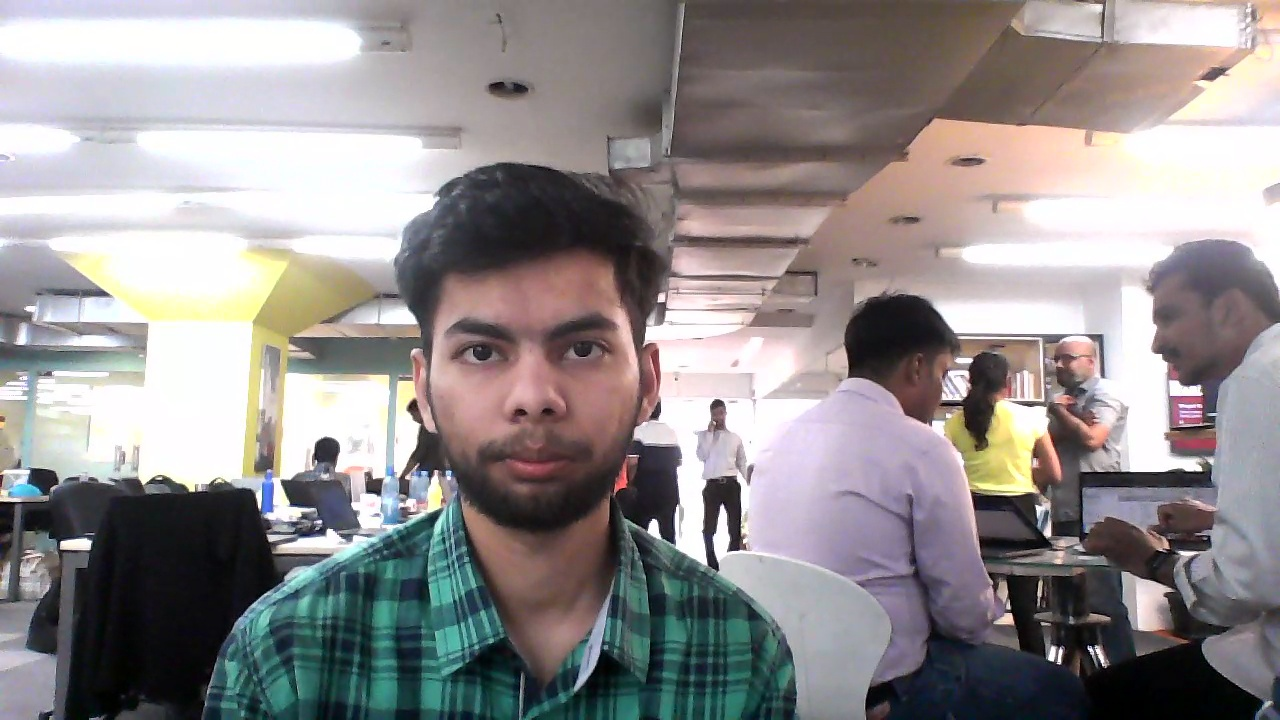open: (393, 164, 674, 526)
